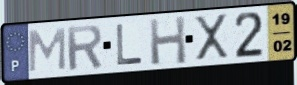2: (233, 11, 266, 60)
H: (148, 14, 189, 67)
L: (115, 23, 145, 67)
M: (27, 26, 68, 74)
R: (64, 23, 104, 73)
X: (192, 12, 231, 63)
